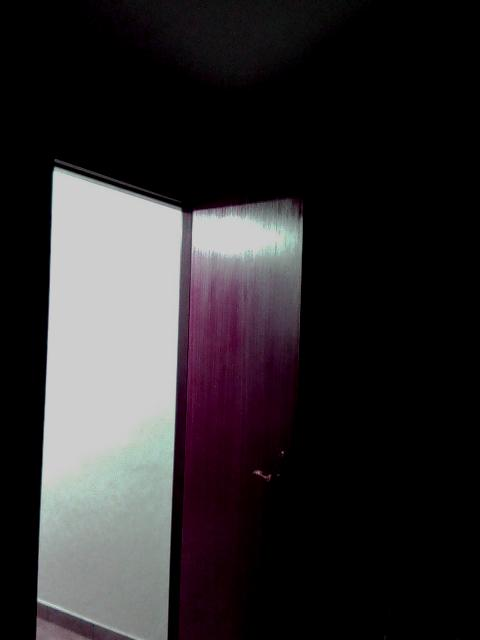open_door: (25, 137, 225, 639)
